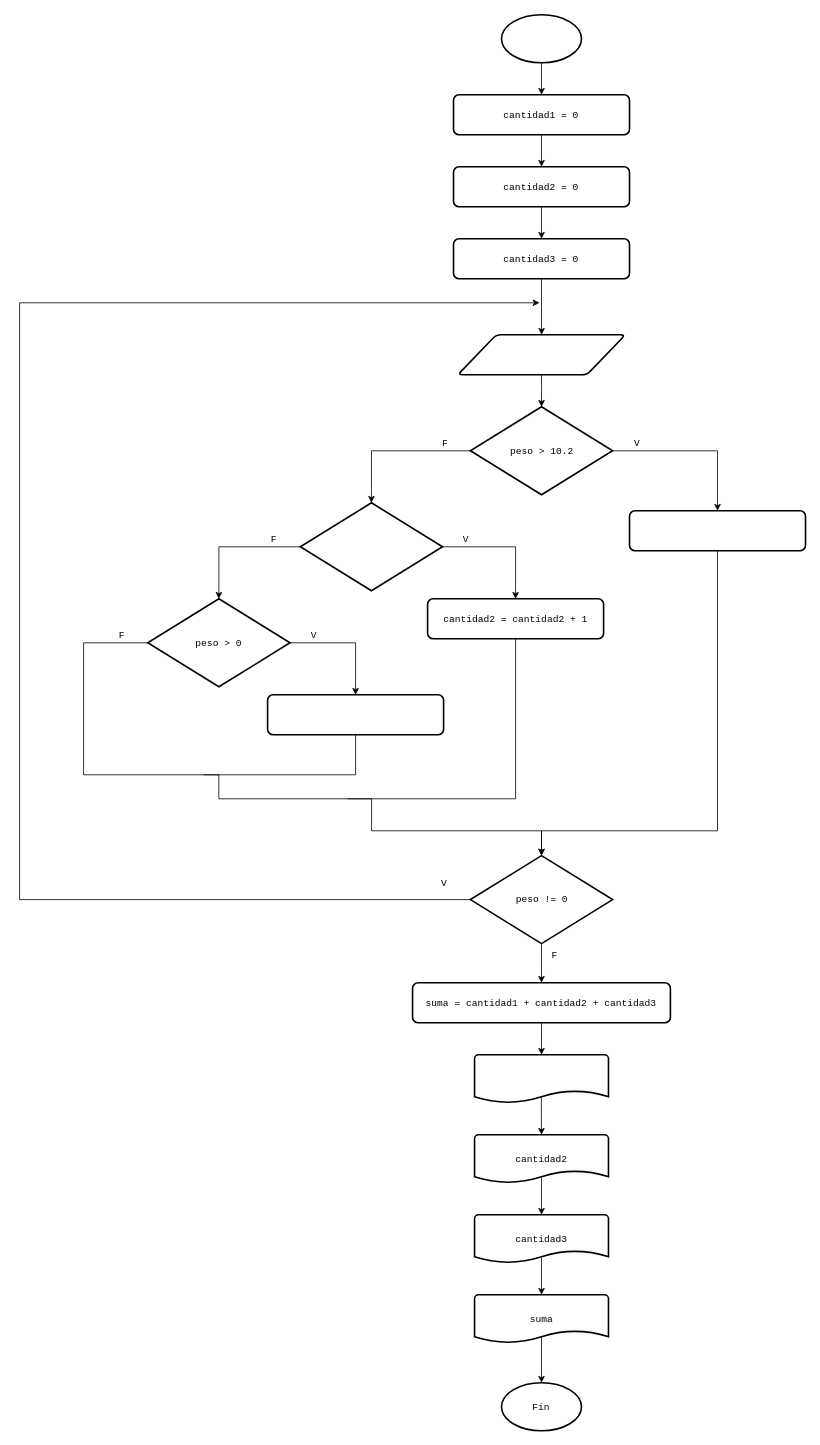
The diagram is 820 pixels wide and 1445 high, and some of its shapes have lost their labels. The box of each missing label's shape, as (x1, y1, x2, y2) in pixels:
cantidad1: (473, 1054, 609, 1103)
cantidad1 = cantidad1 + 1: (628, 510, 806, 551)
cantidad3 = cantidad3 + 1: (266, 694, 444, 735)
Inicio: (500, 14, 582, 63)
peso: (457, 334, 626, 375)
peso >= 9.8: (299, 502, 443, 591)
